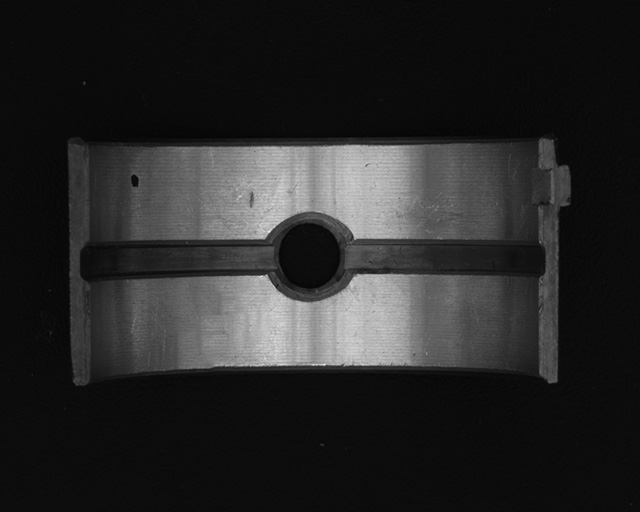blot: (130, 174, 140, 189)
bruise: (248, 191, 255, 209)
gap: (343, 237, 546, 278), (80, 240, 274, 278)
hole: (267, 212, 352, 302)
scratch: (383, 192, 506, 241)
